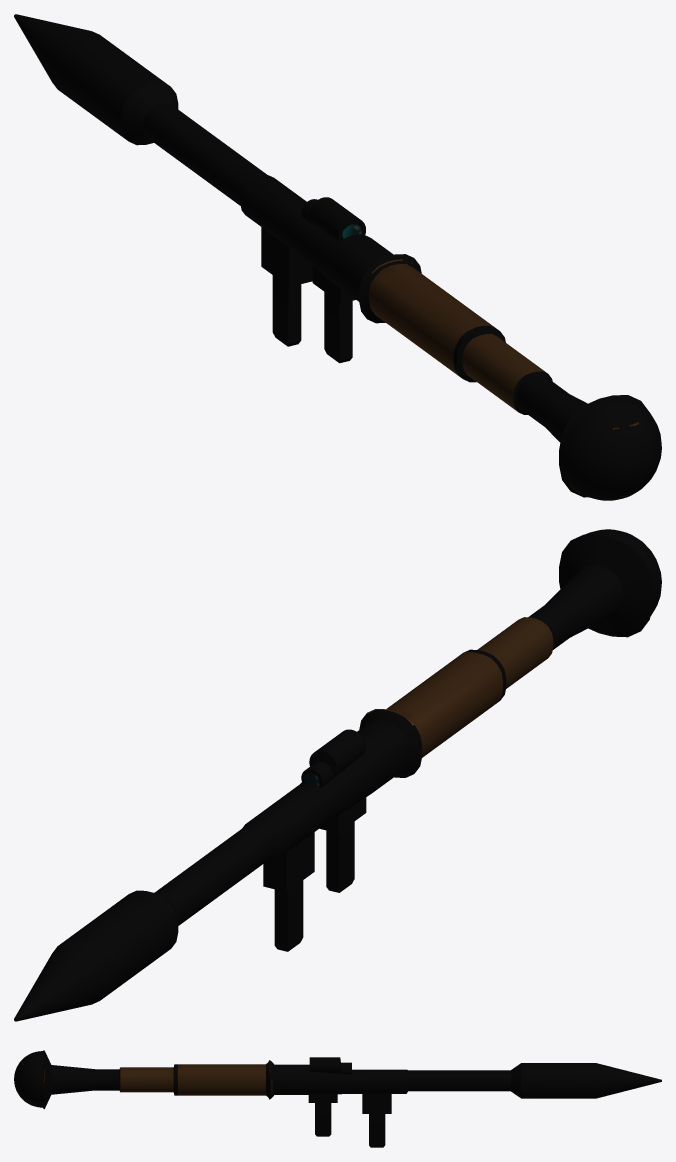
File: basuka.glb
The picture shows the model from 3 angles, top to bottom: view 1: azimuth 30°, elevation 25°; view 2: azimuth 150°, elevation 25°; view 3: azimuth 270°, elevation 25°; orthographic projection. The views are drawn at different scales.
Visible parts, largest first — view 1: Cilindro; view 2: Cilindro; view 3: Cilindro.
Part boxes in pixels (x1,y1,x2,y2): Cilindro: (14, 14, 661, 500); Cilindro: (14, 529, 661, 1021); Cilindro: (14, 1050, 661, 1147).
Size of the model in its own units: 0.3445 by 0.6274 by 3.94.
1 material, 1 textured.
